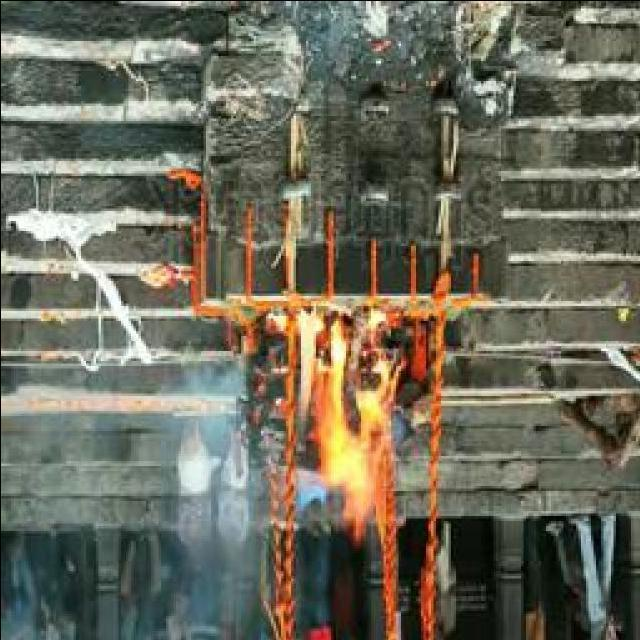Fire: (276, 316, 396, 548)
